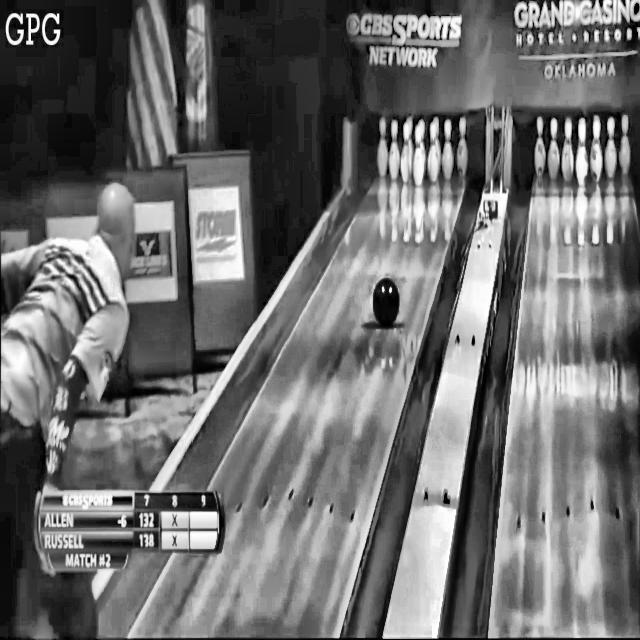bowling-ball: (374, 278, 399, 326)
bowling-pins: (413, 121, 425, 185), (442, 119, 454, 179), (389, 119, 401, 179), (428, 120, 439, 181), (378, 117, 389, 176), (404, 116, 414, 179), (458, 116, 468, 177), (431, 116, 442, 171), (401, 120, 410, 182)
